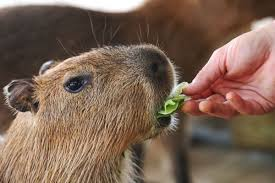capivara: (1, 41, 179, 183)
